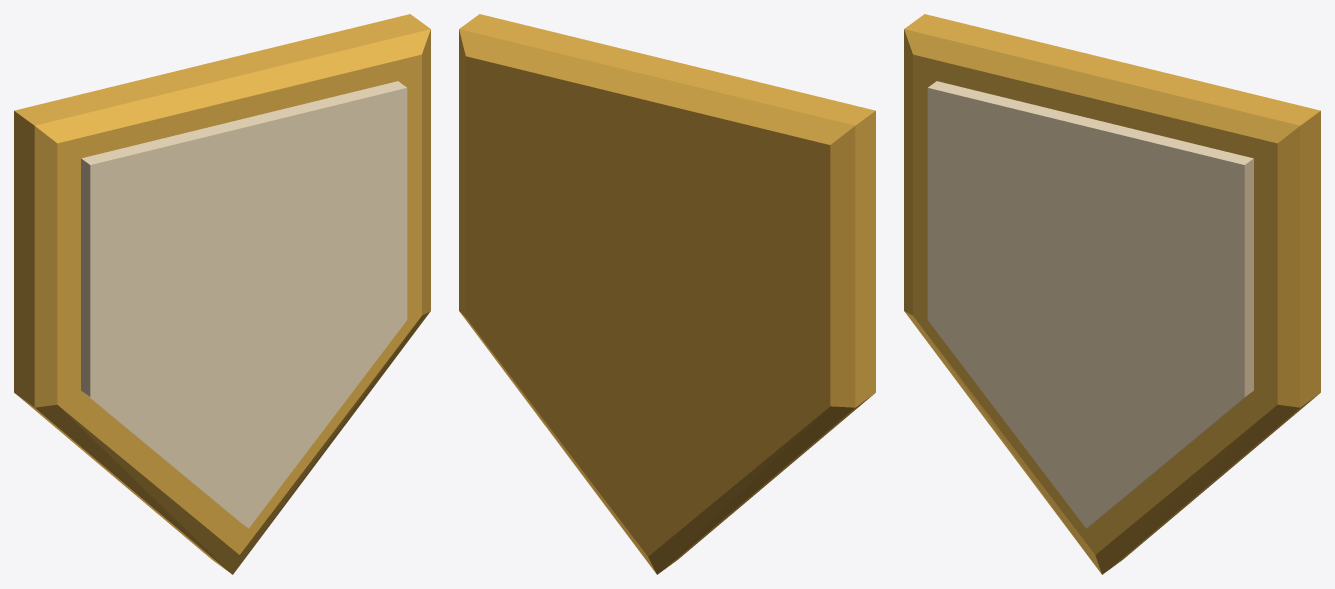
Rendered from shield_badge.glb.
3 views of the same model, side by side, from view 1: azimuth 30°, elevation 25°; view 2: azimuth 150°, elevation 25°; view 3: azimuth 330°, elevation 25° (orthographic).
Visible parts, largest first — view 1: badge; view 2: badge; view 3: badge.
Boxes of the visible parts, x1,y1,x2,y2 form: badge: [14, 14, 430, 574]; badge: [459, 14, 875, 574]; badge: [904, 14, 1320, 574].
Bounding box in the file's own units: 0.05 × 0.06 × 0.01.
